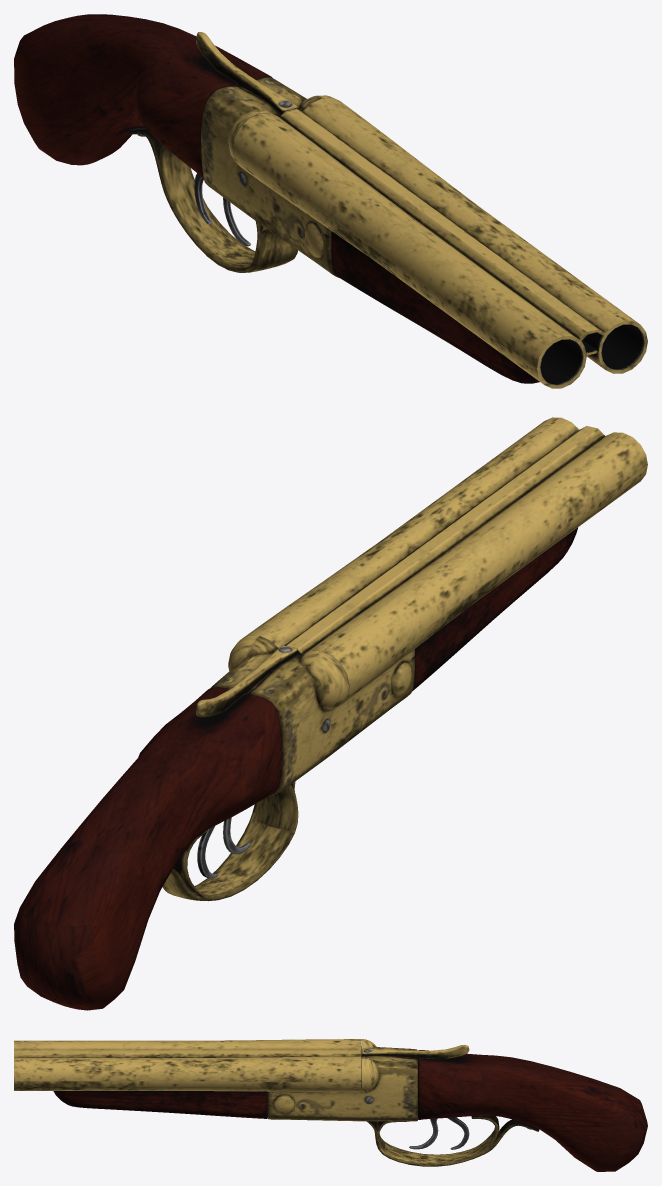
Rendered from sawedoff.glb.
The picture shows the model from 3 angles, top to bottom: view 1: azimuth 30°, elevation 25°; view 2: azimuth 150°, elevation 25°; view 3: azimuth 270°, elevation 25°; orthographic projection. The views are drawn at different scales.
Visible parts, largest first — view 1: Cylinder, Cube.001, Cube.002, Cube.004, Cube.003, Sphere; view 2: Cube.001, Cylinder, Cube.002, Cube.004, Sphere, Cube.003; view 3: Cube.001, Cylinder, Cube.002, Cube.004, Cube.003, Sphere, Cube.006, Cube.007.
Part boxes in pixels (left/top/right/bottom): Cylinder: left=232, top=98, right=647, bottom=388; Cube.001: left=14, top=14, right=539, bottom=383; Cube.002: left=201, top=77, right=338, bottom=277; Cube.004: left=128, top=129, right=297, bottom=272; Cube.003: left=196, top=32, right=298, bottom=113; Sphere: left=228, top=95, right=340, bottom=165; Cube.001: left=14, top=527, right=577, bottom=1010; Cylinder: left=242, top=417, right=647, bottom=705; Cube.002: left=210, top=649, right=414, bottom=796; Cube.004: left=162, top=781, right=298, bottom=901; Sphere: left=228, top=635, right=349, bottom=710; Cube.003: left=196, top=645, right=298, bottom=717; Cube.001: left=53, top=1050, right=647, bottom=1171; Cylinder: left=14, top=1039, right=361, bottom=1092; Cube.002: left=267, top=1046, right=417, bottom=1121; Cube.004: left=366, top=1115, right=539, bottom=1166; Cube.003: left=361, top=1045, right=469, bottom=1061; Sphere: left=362, top=1039, right=378, bottom=1092; Cube.006: left=409, top=1118, right=438, bottom=1149; Cube.007: left=447, top=1117, right=469, bottom=1149.
Bounding box in the file's own units: 470 × 822 × 3828.
Materials: 1 (1 with a texture image).
